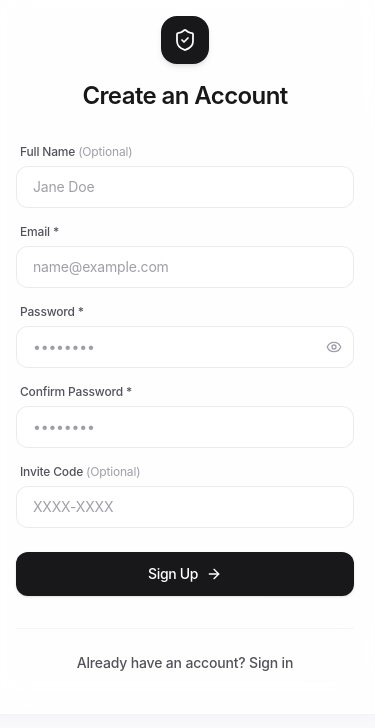
Scenario: RegisterPage › shows validation messages for empty required fields
Step 1. Click the button "Sign Up" → (185, 574), box [16,552,354,596]
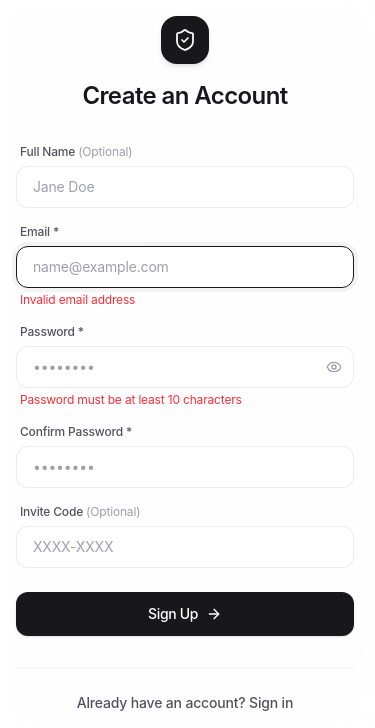
Now the text "Invalid email address" is shown, box [20,292,135,307]
Now the text "Password must be at least 10 characters" is shown, box [20,392,242,407]
